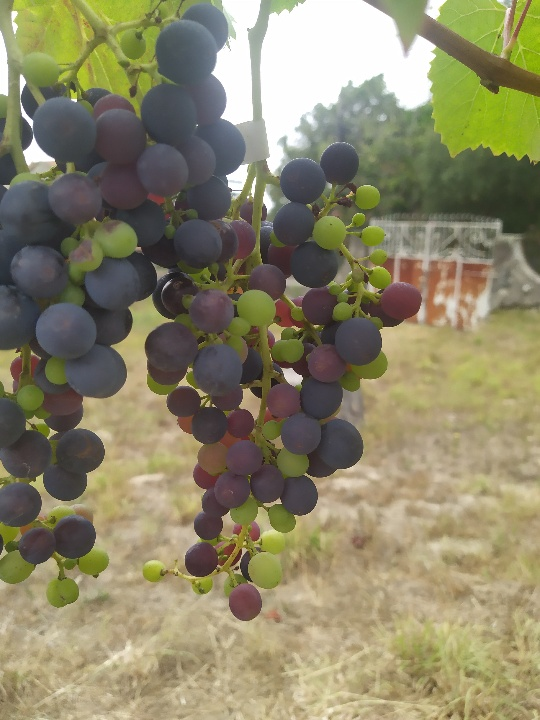grape: (0, 5, 249, 610), (141, 137, 426, 625)
